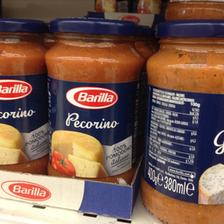tomato_sauce: (140, 21, 223, 224), (43, 19, 143, 185), (1, 18, 46, 174)
